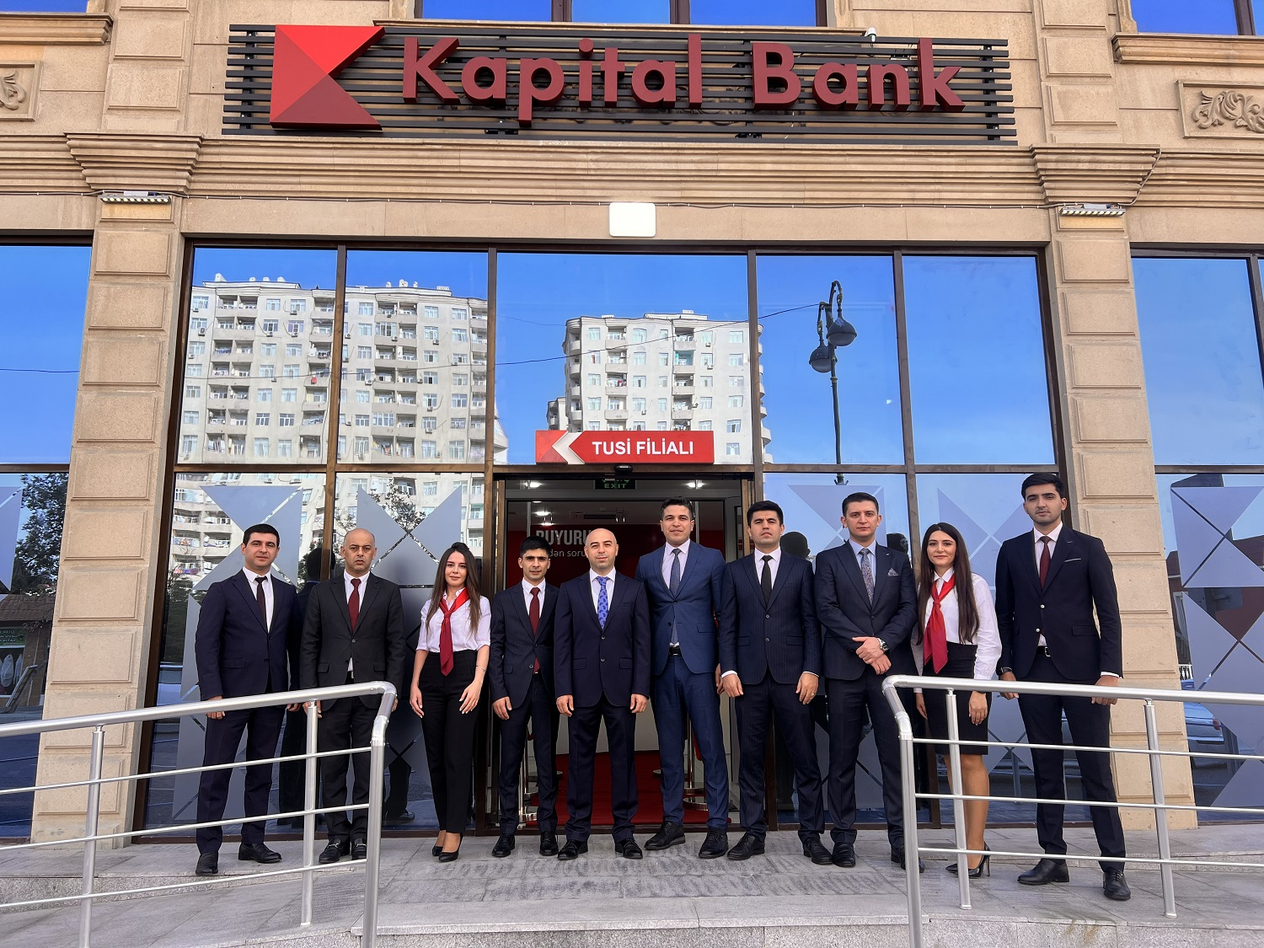Kapital Bank: (268, 20, 387, 131)
